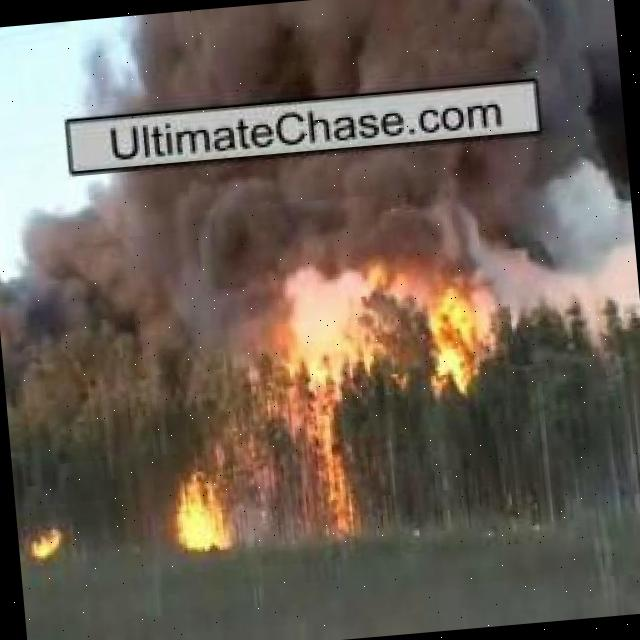fire: (290, 365, 372, 546), (164, 465, 243, 554), (422, 290, 489, 390), (26, 521, 70, 557)
